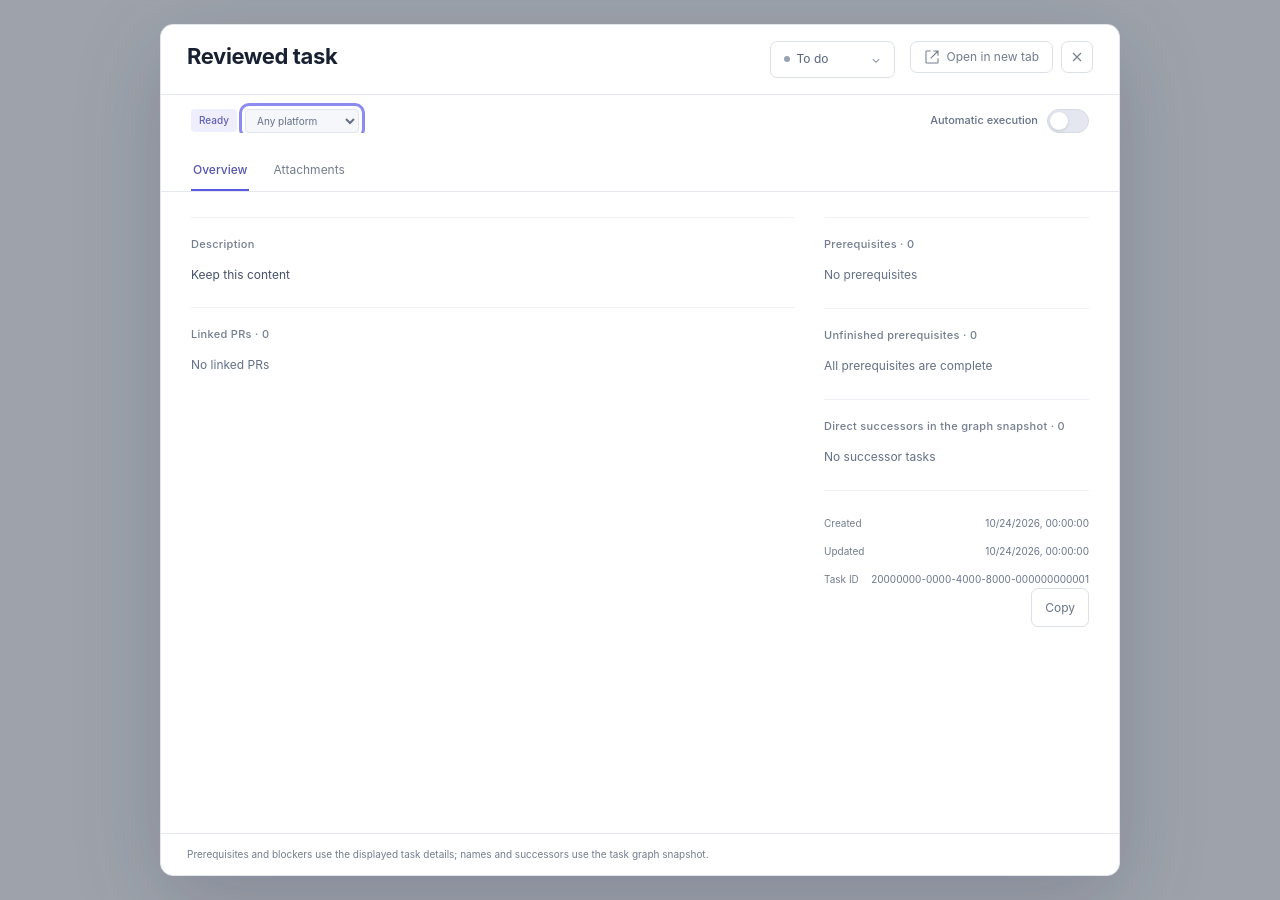
Test: confirmed status-row platform selection › confirms null to windows with the exact reviewed version
Expected: the heading "Reviewed task" is shown, [187, 43, 337, 69]
Select "Windows" in the dropdown named "Execution platform" at (302, 121), box [245, 109, 359, 133]
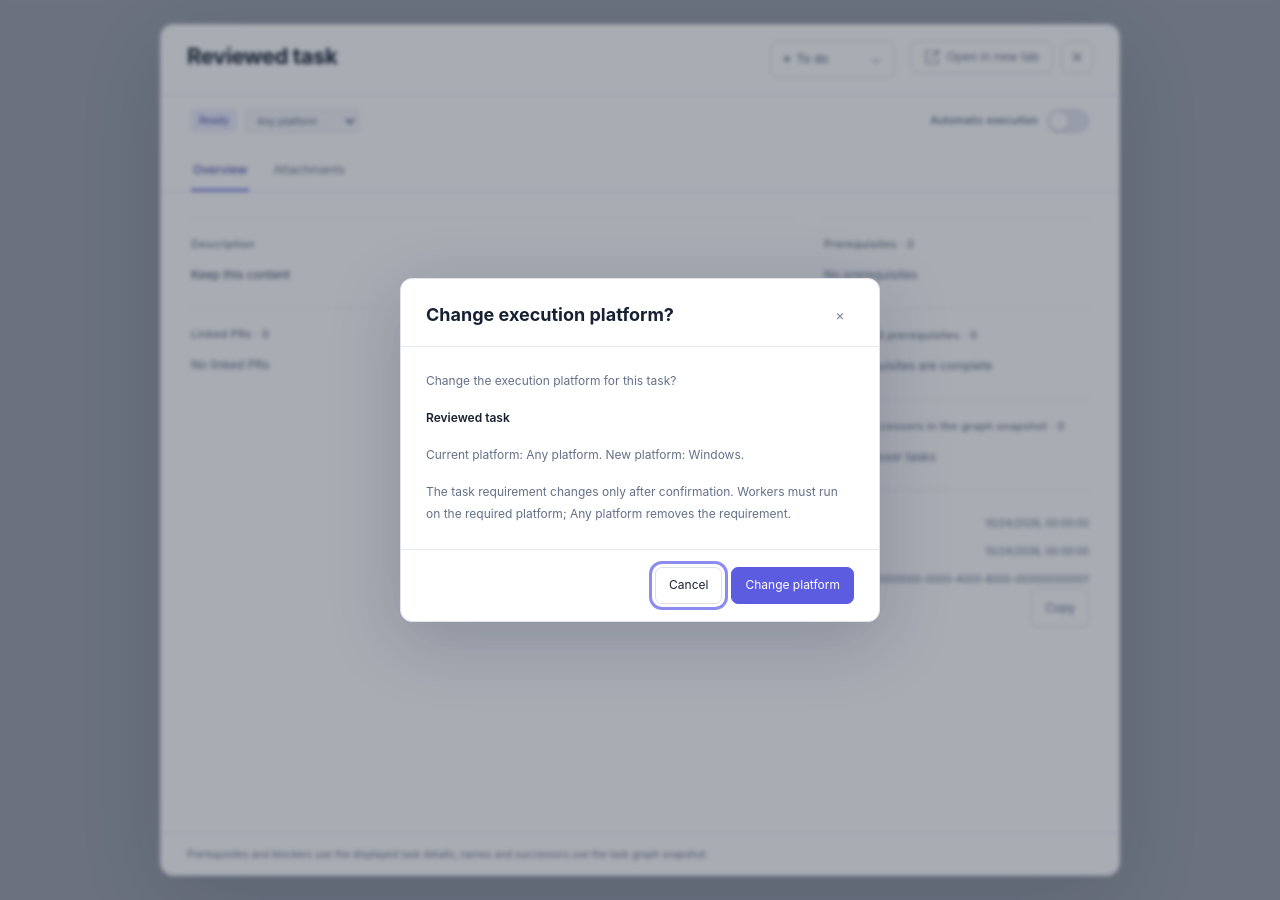
Click the button "Change platform".
click(793, 586)  # box [732, 567, 854, 604]
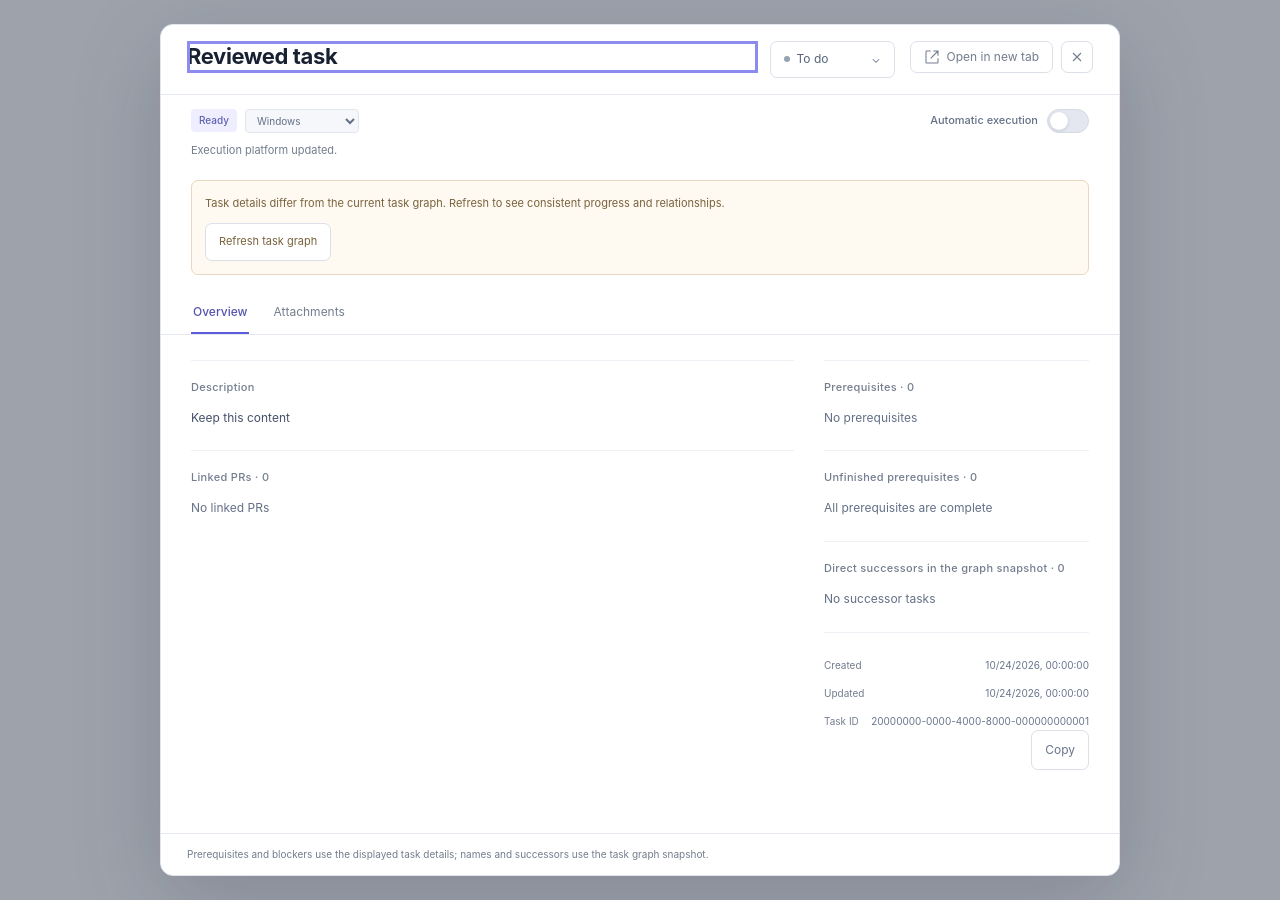
Expected: the text "Execution platform updated." is shown, [191, 143, 337, 157]
